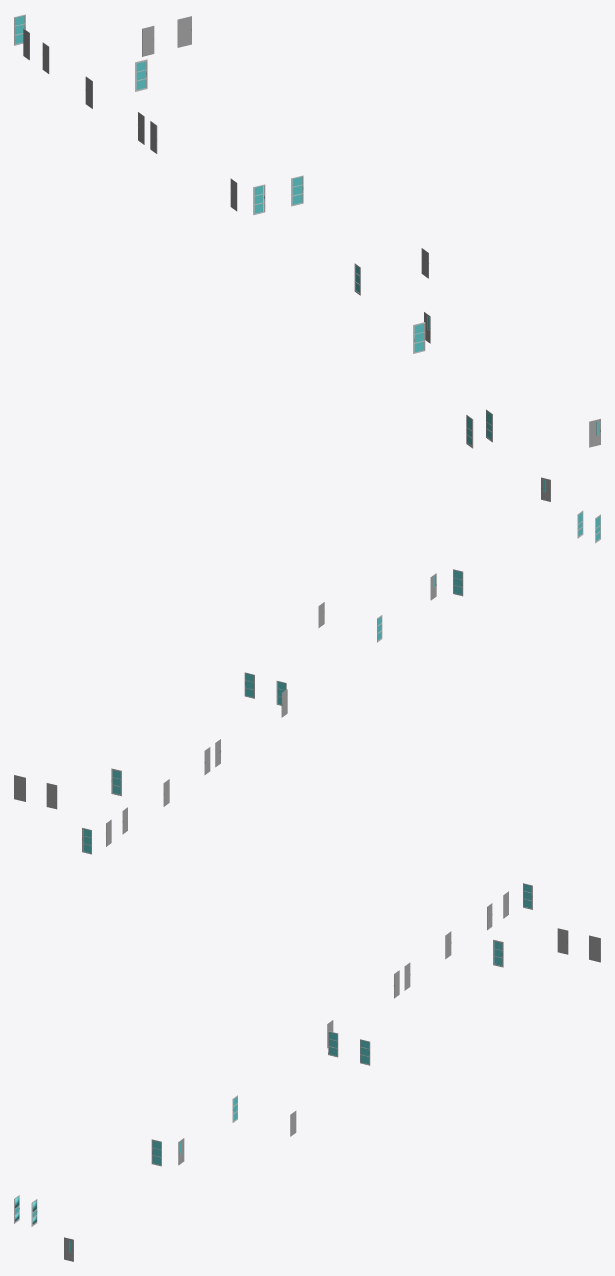
Rendered from ra0_doors.fbx.
3 renders of one model, top to bottom at view 1: azimuth 30°, elevation 25°; view 2: azimuth 150°, elevation 25°; view 3: azimuth 330°, elevation 25°, orthographic. The views are drawn at different scales.
Size of the model in its own units: 1538 by 222 by 7306.
